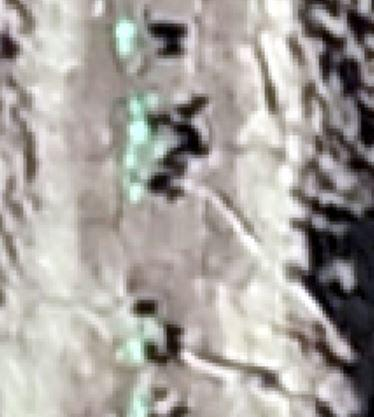cotton: (126, 96, 153, 138), (123, 151, 147, 195), (114, 23, 139, 53), (121, 339, 143, 363), (127, 392, 148, 417)
